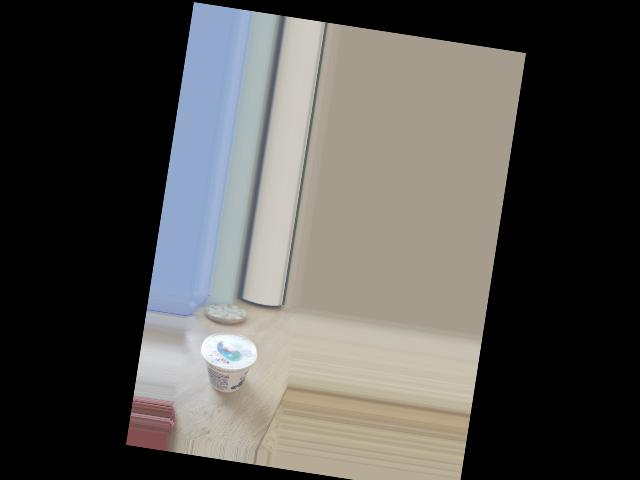cotage: (203, 328, 261, 405)
